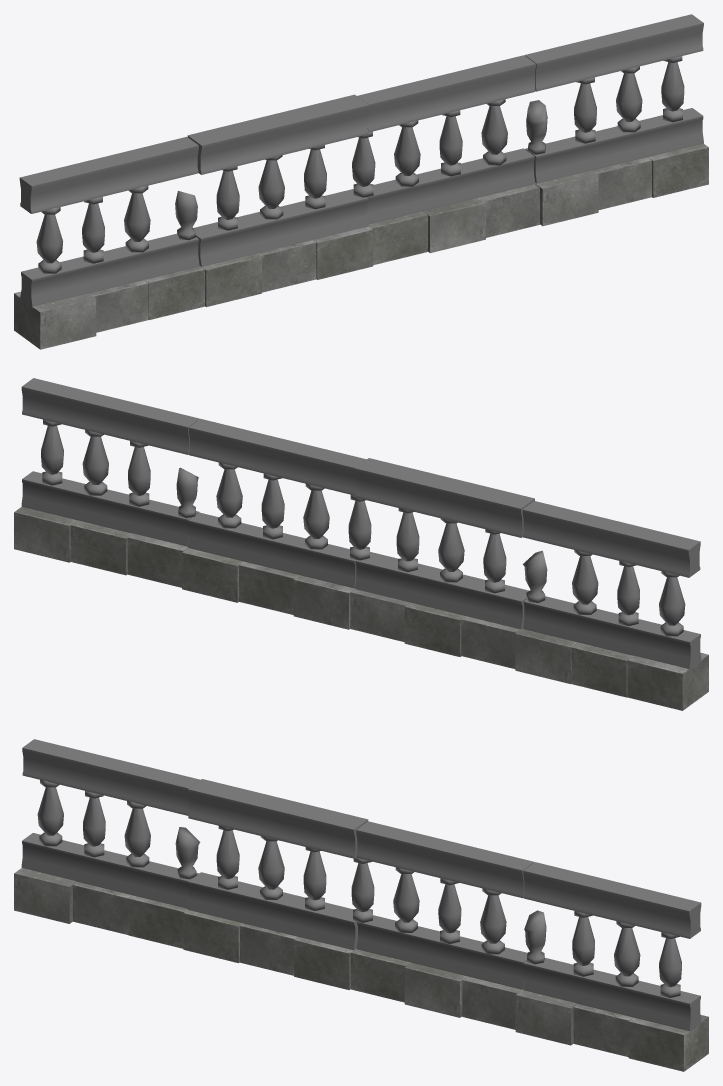
Rendered from SM_railing_04.fbx.
3 renders of one model, top to bottom at view 1: azimuth 30°, elevation 25°; view 2: azimuth 150°, elevation 25°; view 3: azimuth 330°, elevation 25°, orthographic.
Visible parts, largest first — view 1: DarkFantasyObject16; view 2: DarkFantasyObject16; view 3: DarkFantasyObject16.
Boxes of the visible parts, left/top/right/bottom form: DarkFantasyObject16: left=14, top=14, right=708, bottom=349; DarkFantasyObject16: left=14, top=378, right=708, bottom=710; DarkFantasyObject16: left=14, top=739, right=708, bottom=1071.
Bounding box in the file's own units: 198 × 44.61 × 14.06.
